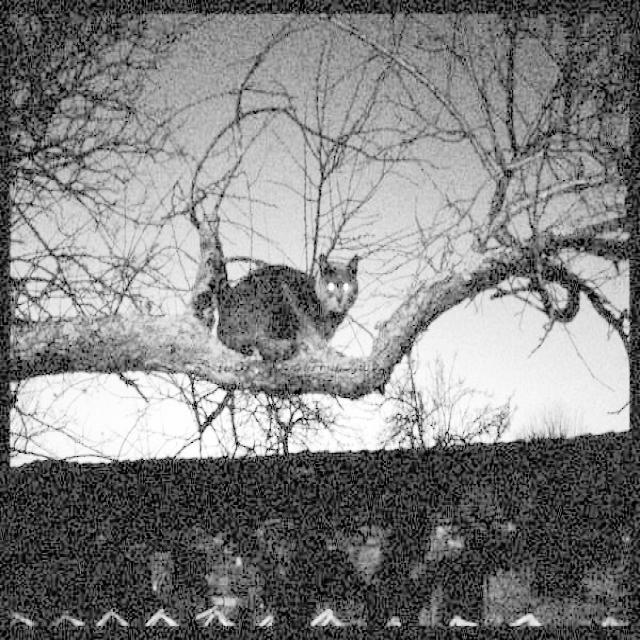Cat: (198, 255, 367, 362)
